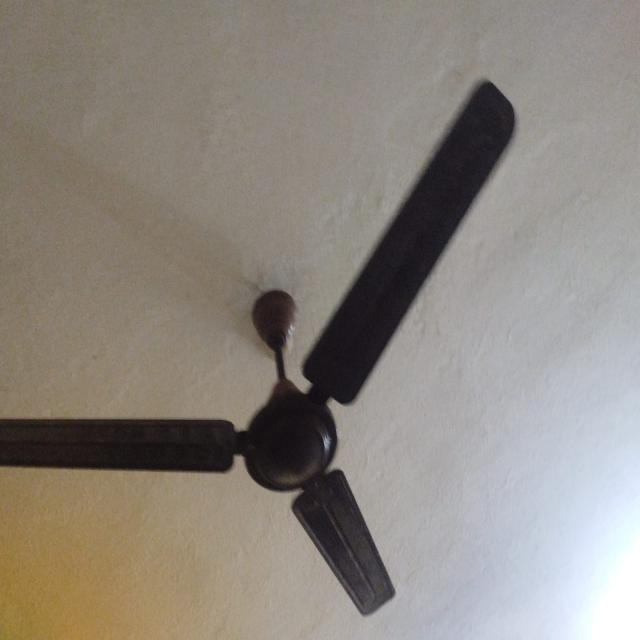fan_off: (0, 76, 517, 614)
